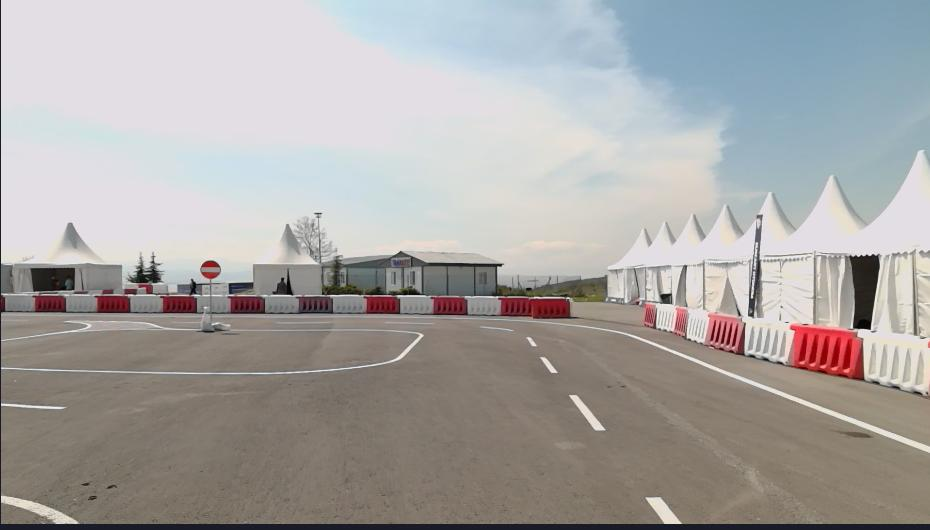nesne: (2, 311, 929, 529), (481, 315, 929, 527), (1, 401, 681, 527), (544, 319, 928, 454), (638, 302, 928, 395), (1, 327, 422, 375), (213, 294, 568, 319), (856, 330, 928, 394), (1, 293, 209, 314), (789, 323, 860, 377), (739, 316, 796, 364), (0, 492, 75, 524), (703, 312, 745, 351), (500, 296, 568, 320), (566, 392, 607, 431), (644, 497, 682, 525), (654, 303, 678, 334), (464, 295, 500, 315), (327, 294, 365, 312), (684, 310, 705, 341), (129, 293, 163, 312), (162, 294, 196, 313), (432, 295, 466, 314), (97, 294, 130, 313), (64, 294, 97, 312), (399, 295, 432, 313), (297, 295, 331, 312), (4, 293, 36, 311), (262, 296, 298, 312), (231, 295, 263, 312), (0, 403, 66, 411), (365, 296, 398, 311), (670, 309, 687, 336), (36, 294, 64, 310), (199, 259, 220, 278), (537, 354, 557, 373), (480, 322, 516, 332), (643, 303, 657, 327), (213, 295, 231, 312), (198, 308, 210, 330), (197, 296, 209, 312), (524, 334, 537, 346), (212, 321, 229, 329)
